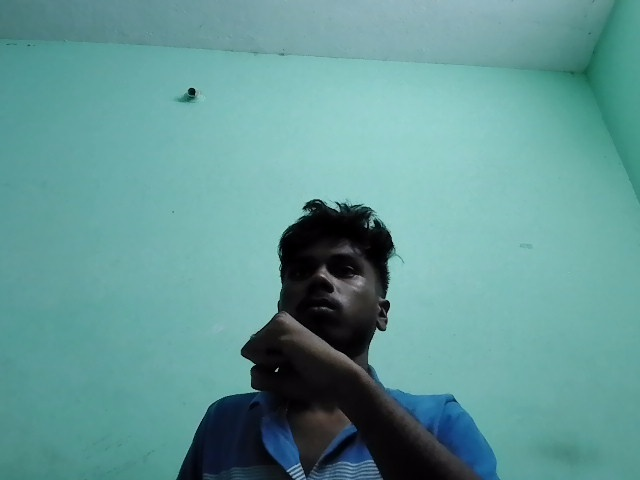Yes: (209, 298, 379, 429)
